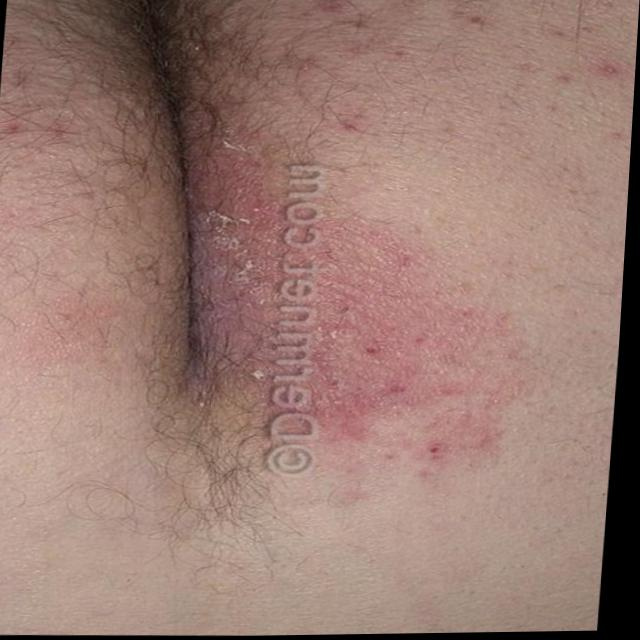Eczema: (164, 156, 504, 447)
